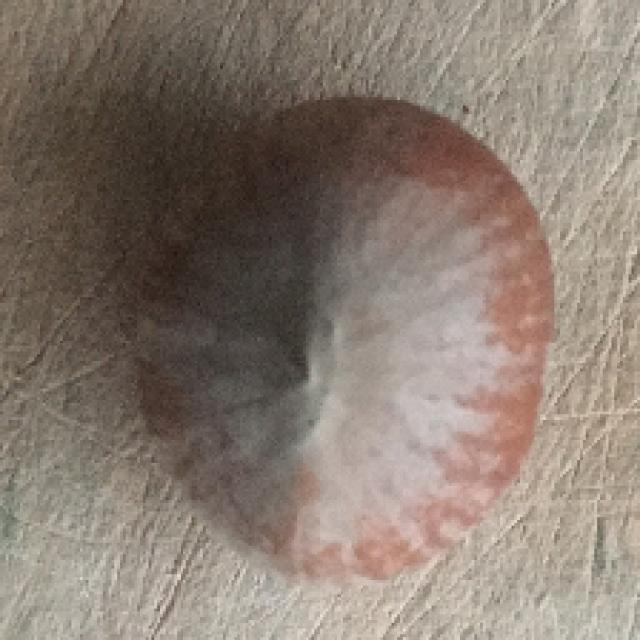QualityHazelnut: (131, 92, 548, 584)
